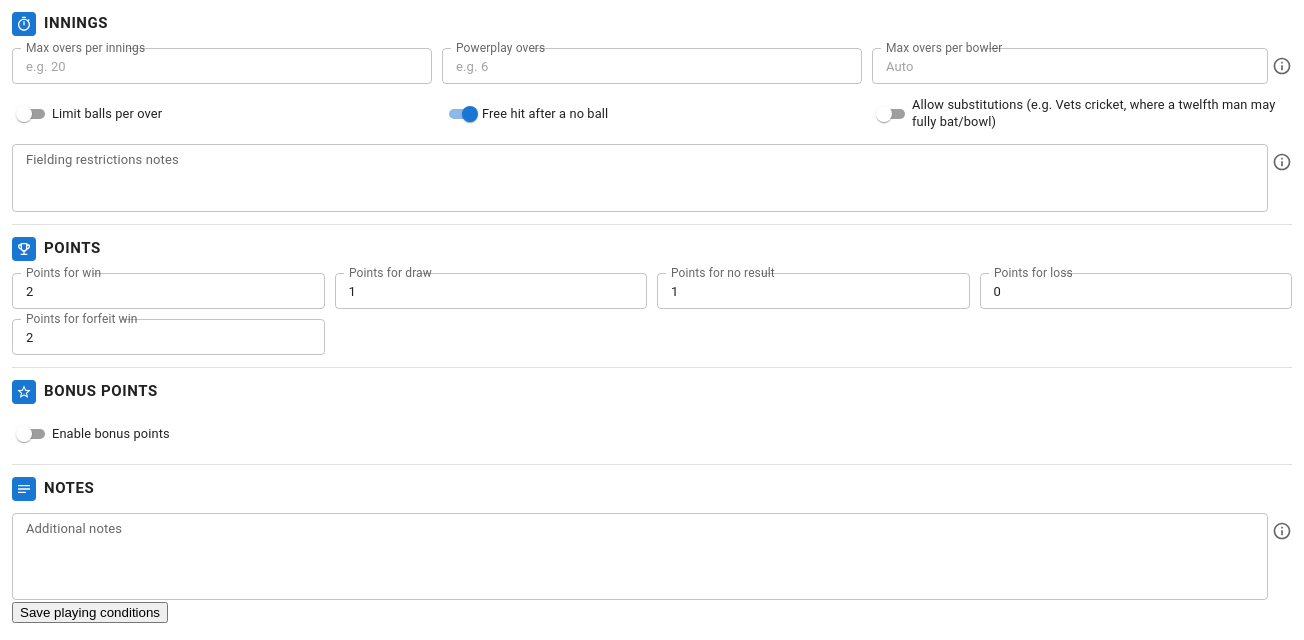
Test: PlayingConditionsForm › mounts the bonus threshold fields once the switch is on
The image size is (1304, 640).
Click the checkbox labelled "Enable bonus points": (93, 434) [16,426,170,442]
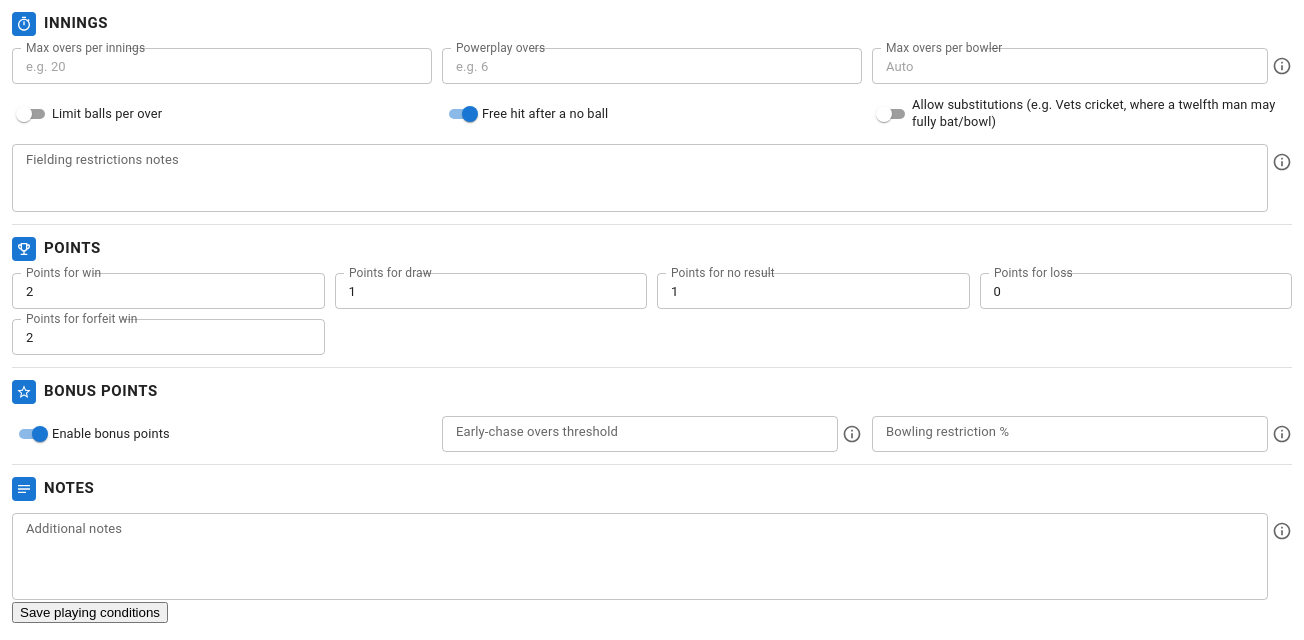
Now the number field labelled "Early-chase overs threshold" is shown, box [442,418,838,450]
Now the number field labelled "Bowling restriction %" is shown, box [872,418,1268,450]
